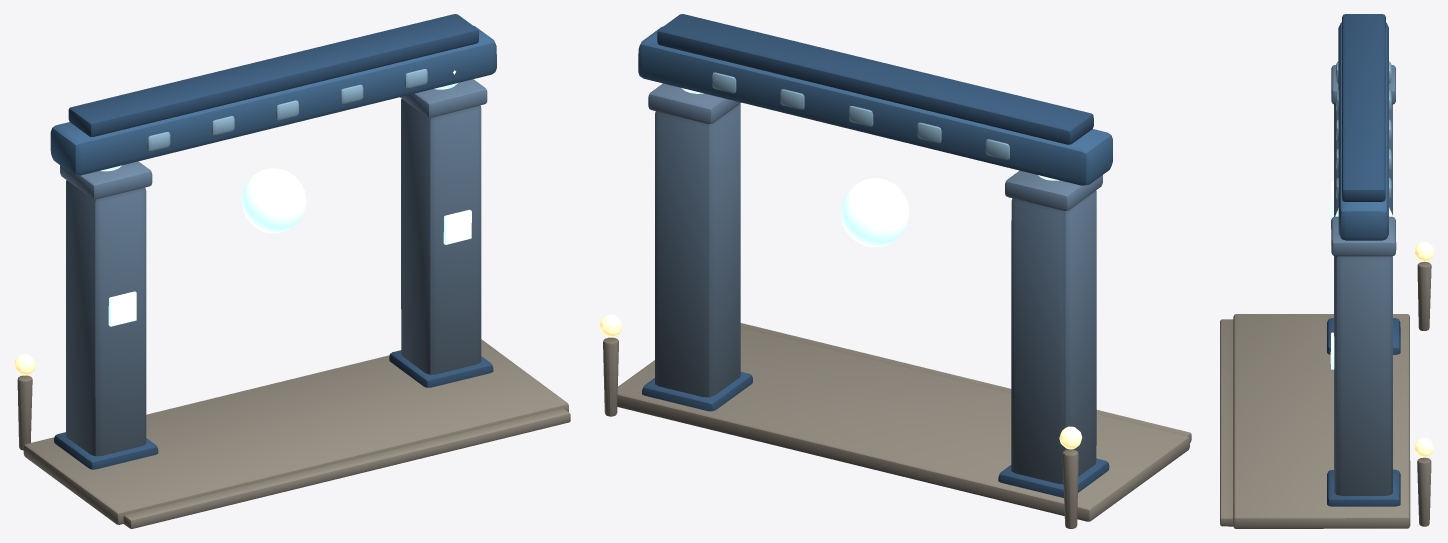
3 renders of one model, left to right at view 1: azimuth 30°, elevation 25°; view 2: azimuth 150°, elevation 25°; view 3: azimuth 270°, elevation 25°, orthographic. The views are drawn at different scales.
Visible parts, largest first — view 1: gate_8eb51d21; view 2: gate_8eb51d21; view 3: gate_8eb51d21.
Part boxes in pixels (left/top/right/bottom): gate_8eb51d21: left=14, top=14, right=570, bottom=528; gate_8eb51d21: left=599, top=14, right=1191, bottom=528; gate_8eb51d21: left=1220, top=14, right=1433, bottom=528.
Size of the model in its own units: 5.77 by 4.29 by 2.55.
